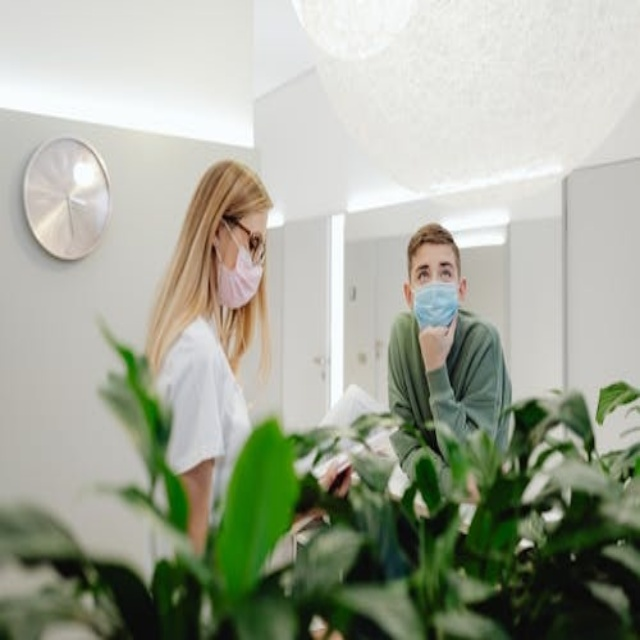Gafas: (223, 217, 266, 264)
Mascara: (215, 224, 263, 308), (411, 280, 460, 330)
Sin_gafas: (411, 254, 460, 281)
Sin_guantes: (413, 309, 462, 375)
